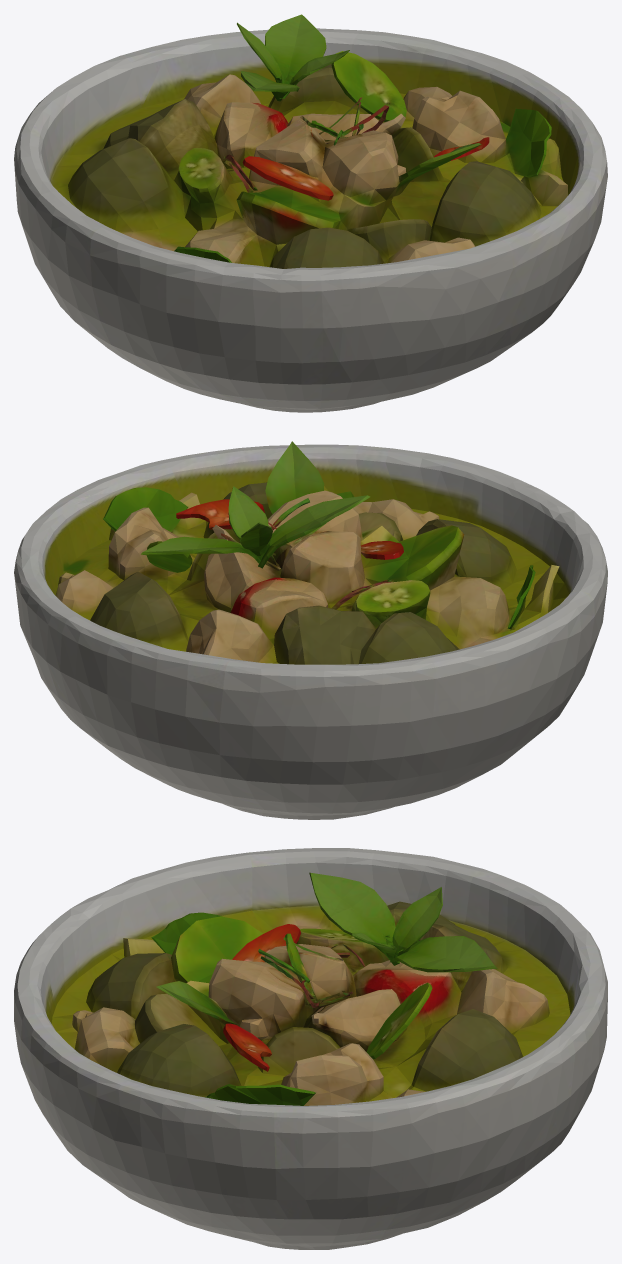
File: greencurry.glb
3 views of the same model, one above another, from view 1: azimuth 30°, elevation 25°; view 2: azimuth 150°, elevation 25°; view 3: azimuth 270°, elevation 25° (orthographic). The views are drawn at different scales.
Visible parts, largest first — view 1: tripo_node_8a377984-4939-4f7b-9fa5-26bfba489c01; view 2: tripo_node_8a377984-4939-4f7b-9fa5-26bfba489c01; view 3: tripo_node_8a377984-4939-4f7b-9fa5-26bfba489c01.
Part boxes in pixels (box(x1,y1,x2,y2)): tripo_node_8a377984-4939-4f7b-9fa5-26bfba489c01: box(14, 14, 607, 412); tripo_node_8a377984-4939-4f7b-9fa5-26bfba489c01: box(14, 441, 607, 819); tripo_node_8a377984-4939-4f7b-9fa5-26bfba489c01: box(14, 848, 607, 1249).
Size of the model in its own units: 1.03 by 0.5879 by 0.998.
Materials: 1 (1 with a texture image).
